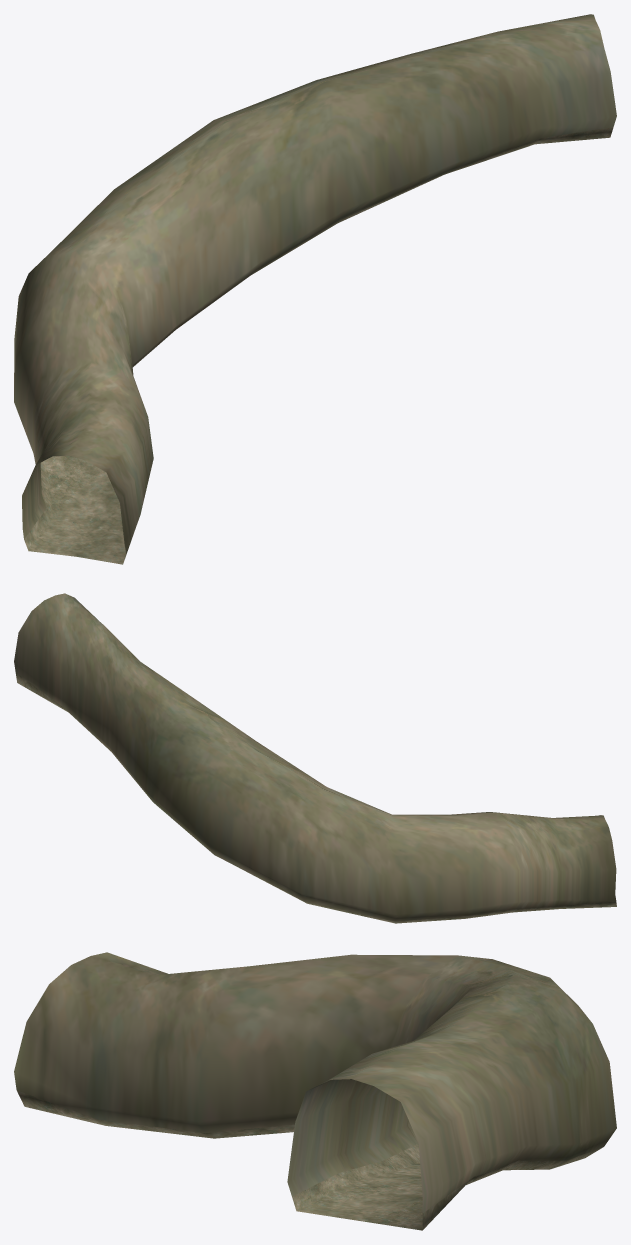
The model's file is EKH_JAIL_PS_JA_LINE318.fbx.
The picture shows the model from 3 angles, top to bottom: view 1: azimuth 30°, elevation 25°; view 2: azimuth 150°, elevation 25°; view 3: azimuth 270°, elevation 25°; orthographic projection. The views are drawn at different scales.
Parts seen in each view (by area): view 1: EKH_JAIL_PS_JA_LINE318; view 2: EKH_JAIL_PS_JA_LINE318; view 3: EKH_JAIL_PS_JA_LINE318.
Part boxes in pixels (bbox=[...]): EKH_JAIL_PS_JA_LINE318: bbox=[14, 14, 616, 564]; EKH_JAIL_PS_JA_LINE318: bbox=[14, 593, 616, 923]; EKH_JAIL_PS_JA_LINE318: bbox=[14, 952, 616, 1230].
Size of the model in its own units: 187723 by 81683 by 106831.
1 material, 1 textured.
